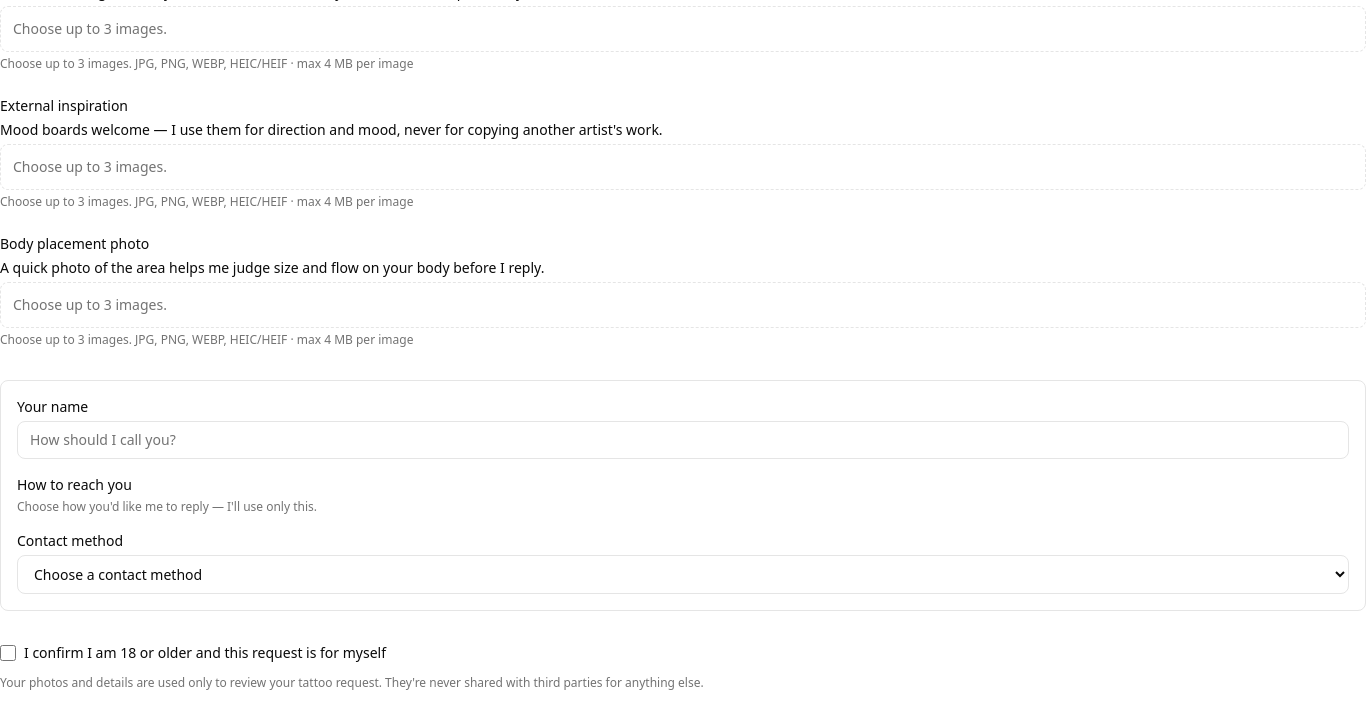
Test: RequestForm – contact method select › reveals exactly one value field for instagram
(page scrolled)
Select "Instagram" in the dropdown labelled "Contact method" at [683, 574], box 17,555 -> 1349,594
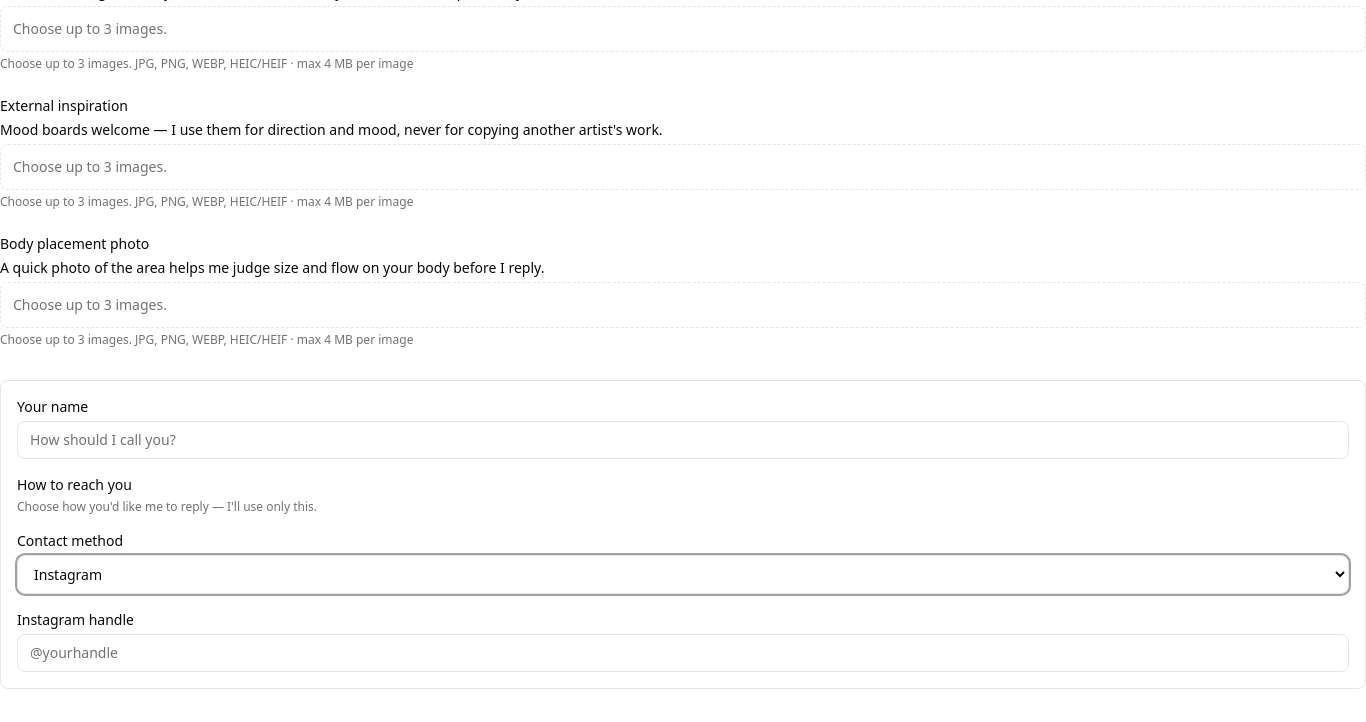
Expected: the field labelled "Instagram handle" is shown, 17,634 -> 1349,672
